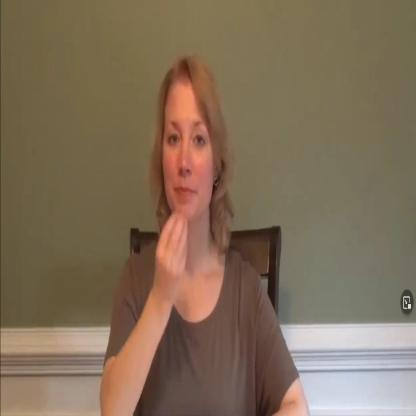Food: (98, 51, 312, 416)
